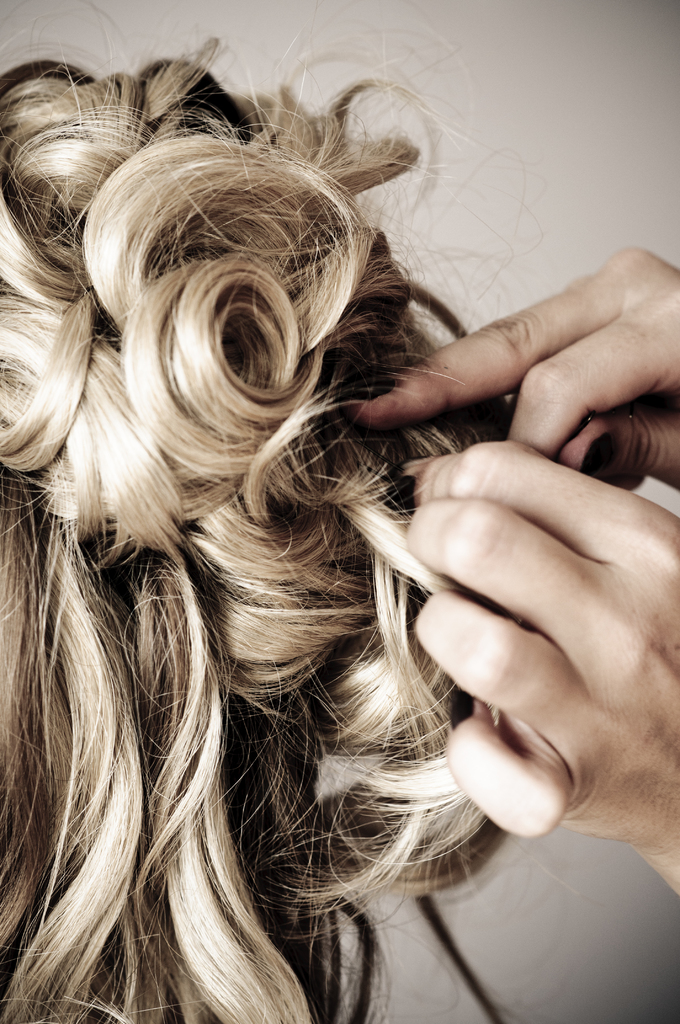Person: (341, 244, 679, 902)
